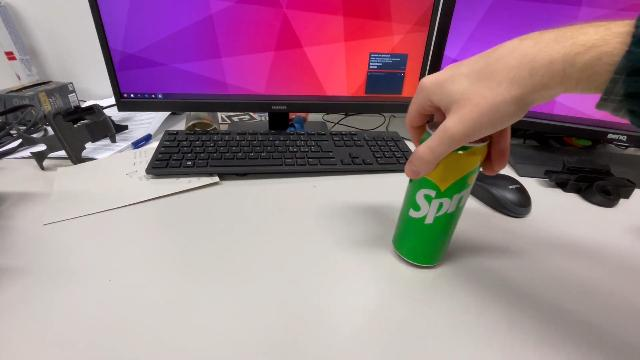Sprite: (391, 116, 492, 272)
